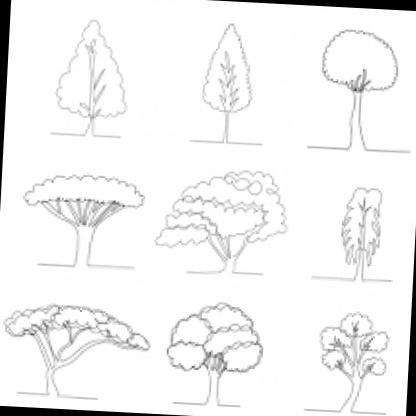crown_cloud: (4, 303, 150, 352), (165, 303, 265, 374)
root_none: (341, 138, 376, 166), (66, 255, 104, 280), (38, 382, 70, 406), (210, 263, 244, 282), (70, 127, 108, 143), (342, 270, 374, 288), (196, 396, 227, 414), (214, 132, 238, 151), (332, 401, 362, 416)
trunk_reflex: (341, 385, 361, 407), (42, 369, 60, 390)
trunk_straight: (345, 98, 368, 144), (73, 232, 94, 262), (206, 374, 221, 402), (221, 118, 231, 140), (354, 262, 365, 278)
